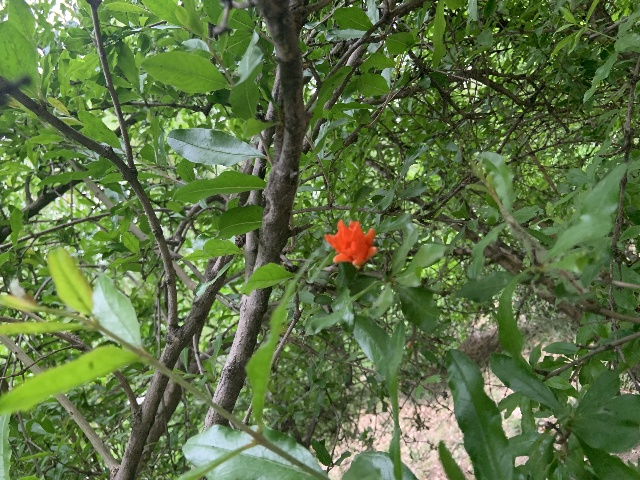flower: (324, 218, 377, 269)
